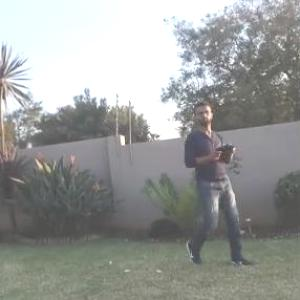follow: (185, 88, 262, 269)
